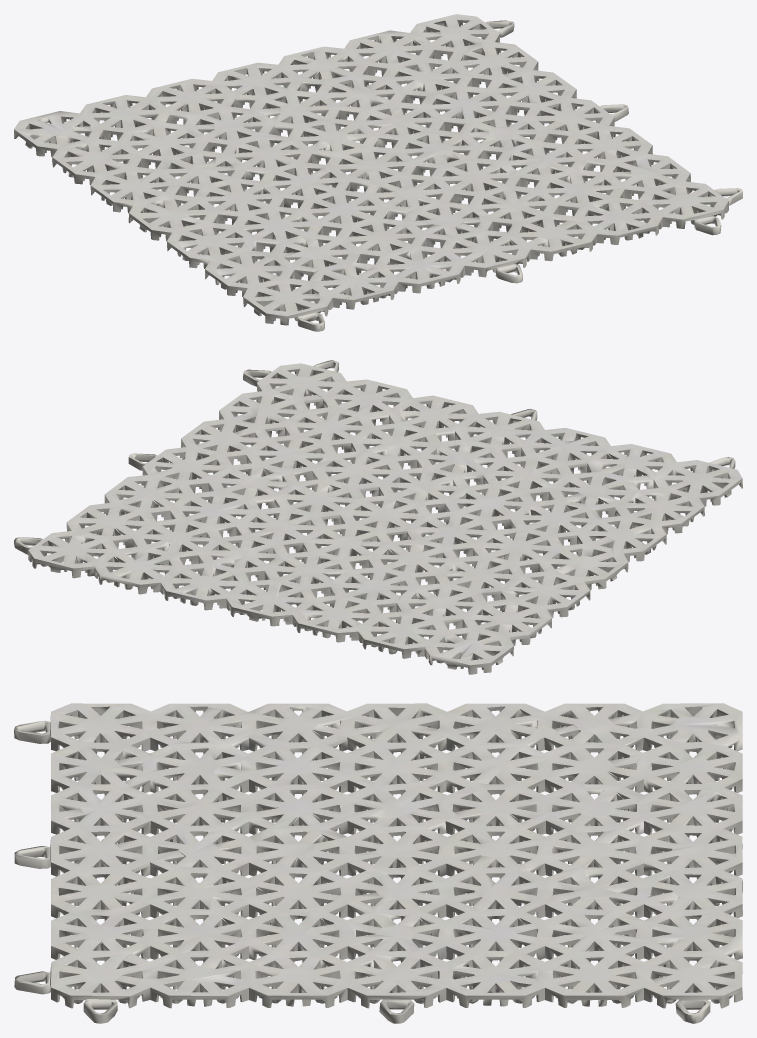
Rendered from ALTAPPEN Caillebotis, gris clair, 0.81 m².glb.
The picture shows the model from 3 angles, top to bottom: view 1: azimuth 30°, elevation 25°; view 2: azimuth 150°, elevation 25°; view 3: azimuth 270°, elevation 25°; orthographic projection. The views are drawn at different scales.
Visible parts, largest first — view 1: 90420898-ALTAPPEN001; view 2: 90420898-ALTAPPEN001; view 3: 90420898-ALTAPPEN001.
Boxes of the visible parts, x1,y1,x2,y2 form: 90420898-ALTAPPEN001: (14, 14, 742, 331); 90420898-ALTAPPEN001: (14, 360, 742, 674); 90420898-ALTAPPEN001: (14, 703, 742, 1023).
Size of the model in its own units: 0.3175 by 0.00651 by 0.3175.
Materials: 1 (1 with a texture image).
